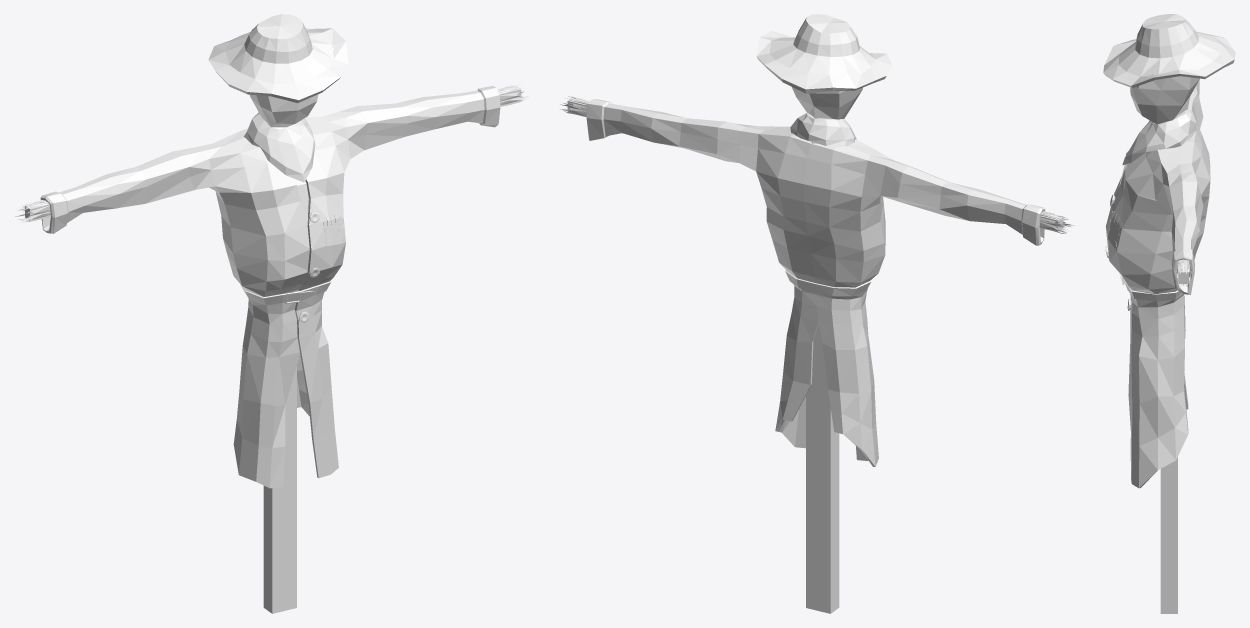
Rendered from Prop_Scarecrow_02.glb.
3 views of the same model, side by side, from view 1: azimuth 30°, elevation 25°; view 2: azimuth 150°, elevation 25°; view 3: azimuth 270°, elevation 25° (orthographic).
Visible parts, largest first — view 1: Prop_Scarecrow_02; view 2: Prop_Scarecrow_02; view 3: Prop_Scarecrow_02.
Boxes of the visible parts, x1=… form: Prop_Scarecrow_02: x1=15, y1=14, x2=529, y2=613; Prop_Scarecrow_02: x1=560, y1=14, x2=1074, y2=613; Prop_Scarecrow_02: x1=1103, y1=14, x2=1235, y2=613.
Size of the model in its own units: 2 by 2.2 by 0.4484.
Materials: 1 (1 with a texture image).
